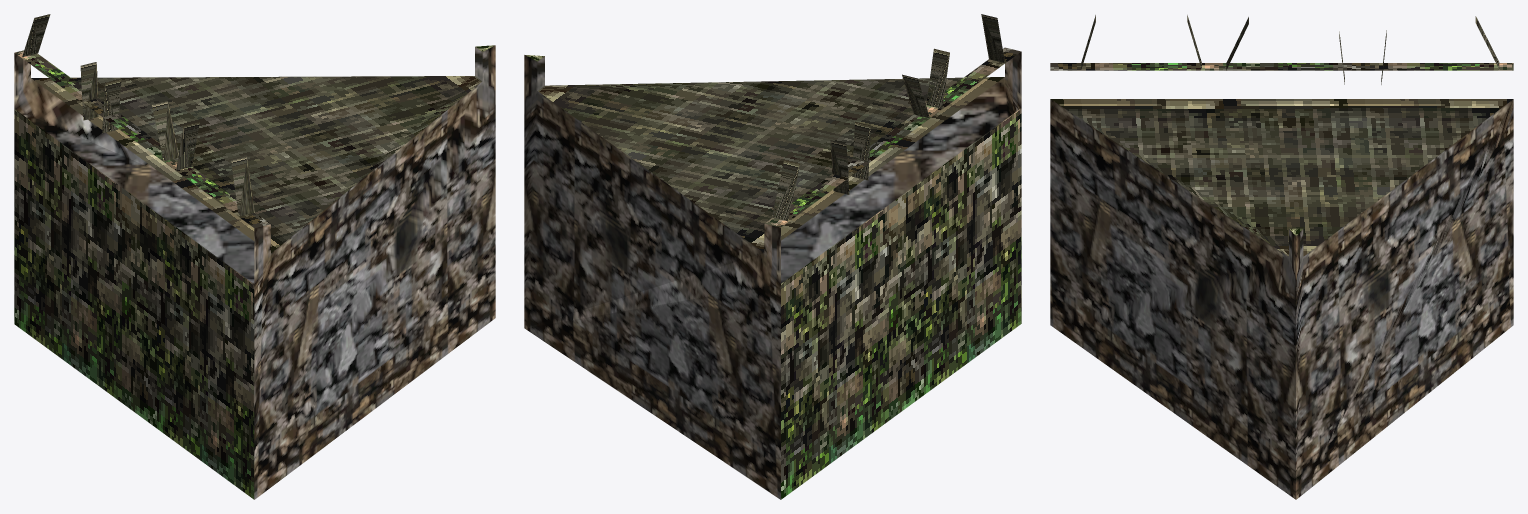
The model's file is Civilian - Civilian Building - Fortress Wall 45 Degree - Damaged - CMWalAkml6_D.glb.
3 views of the same model, side by side, from view 1: azimuth 30°, elevation 25°; view 2: azimuth 150°, elevation 25°; view 3: azimuth 270°, elevation 25° (orthographic). The views are drawn at different scales.
Visible parts, largest first — view 1: CMWALAKML6_D; view 2: CMWALAKML6_D; view 3: CMWALAKML6_D.
Boxes of the visible parts, x1,y1,x2,y2 form: CMWALAKML6_D: [14, 14, 495, 499]; CMWALAKML6_D: [524, 14, 1021, 499]; CMWALAKML6_D: [1050, 15, 1513, 499].
Bounding box in the file's own units: 51.94 × 43.6 × 58.6.
5 materials, 5 textured.
